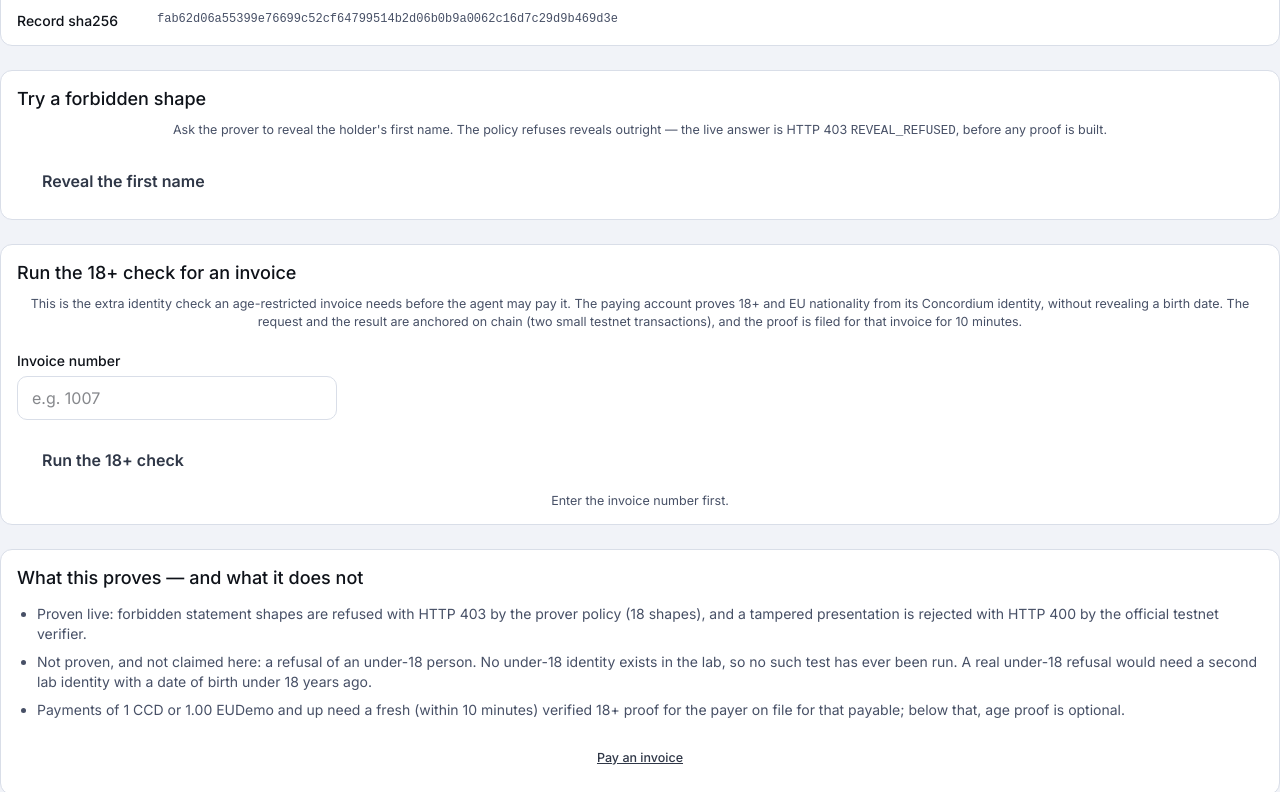
Test case: AgeProofPage › a failed check says No match and nothing was filed, with the step
(page scrolled)
Step 1. Type "1007" into the field labelled "Invoice number" → (177, 398), box [17, 376, 337, 420]
(page scrolled)
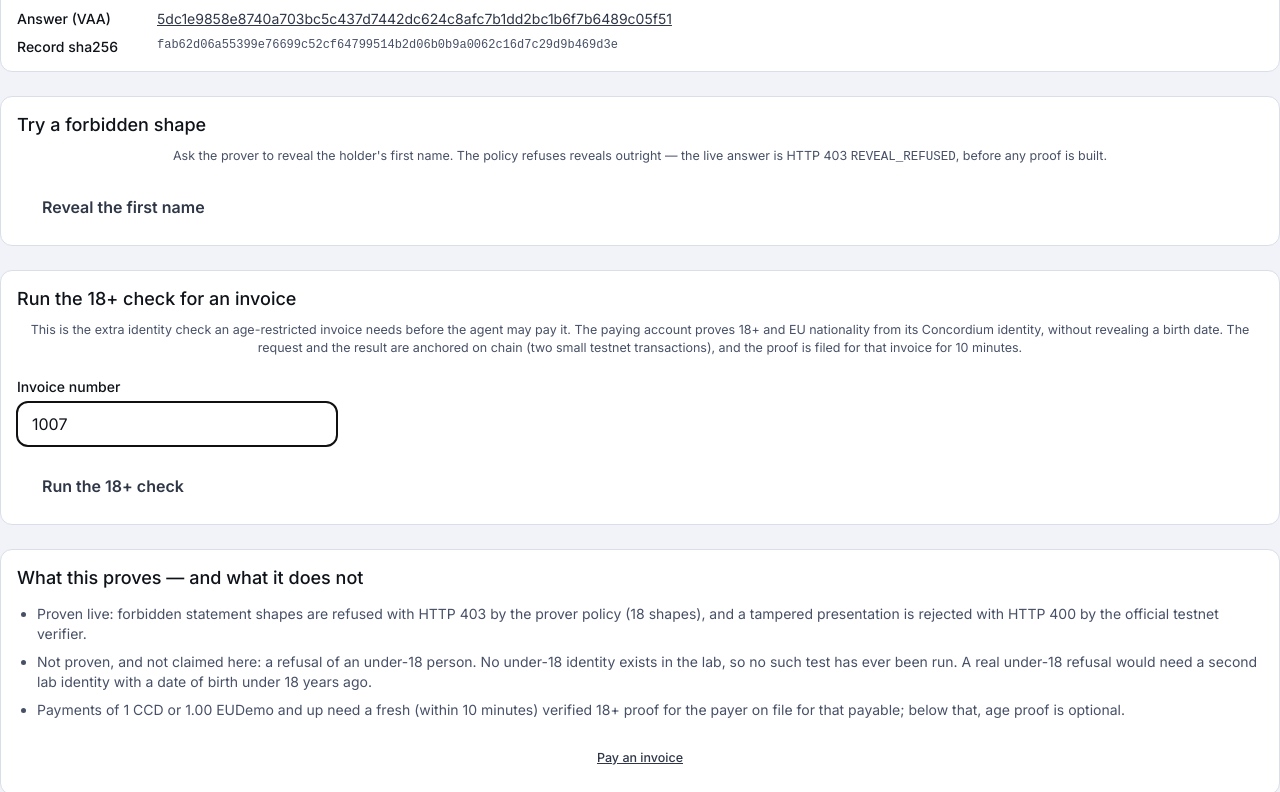
Step 2. Click the button "Run the 18+ check" → (113, 486), box [17, 462, 209, 510]
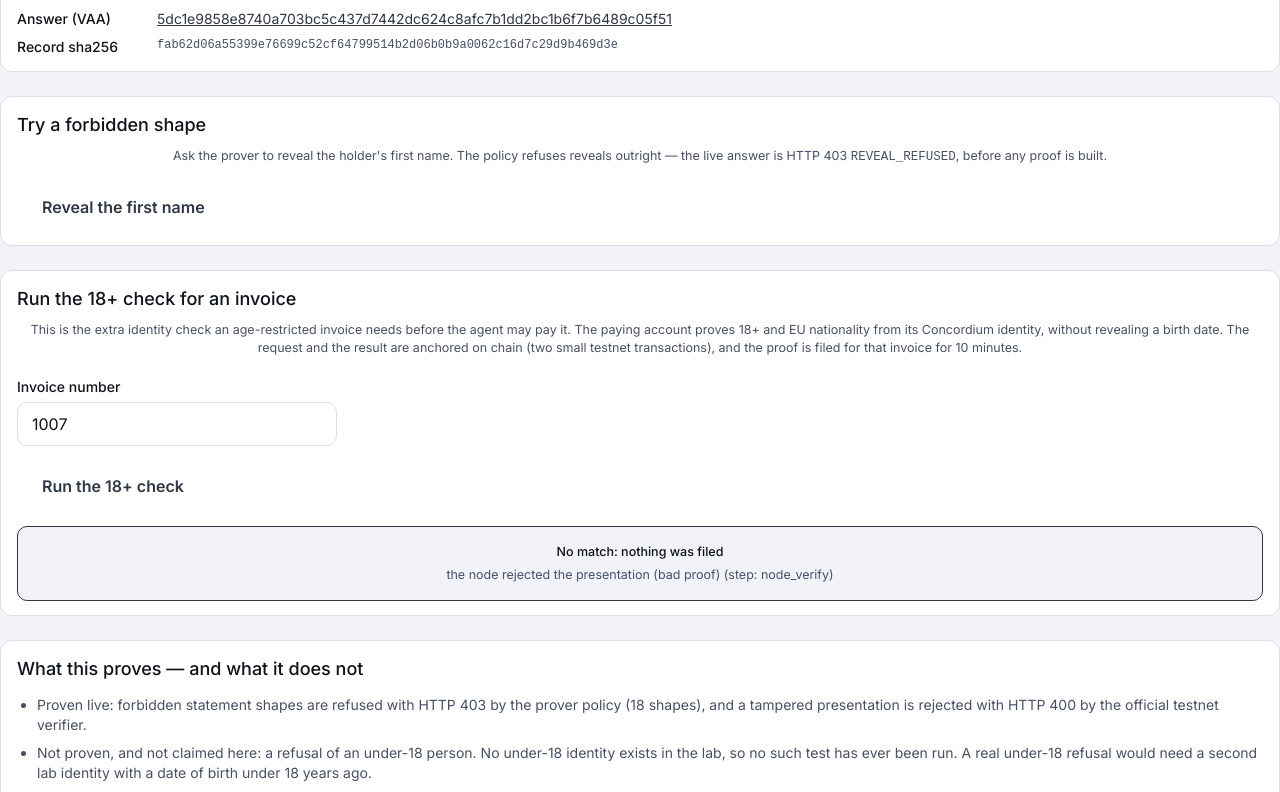
Now the text "No match: nothing was filed" is shown, box [557, 544, 723, 559]
Now the text "the node rejected the presentation" is shown, box [446, 567, 720, 582]
